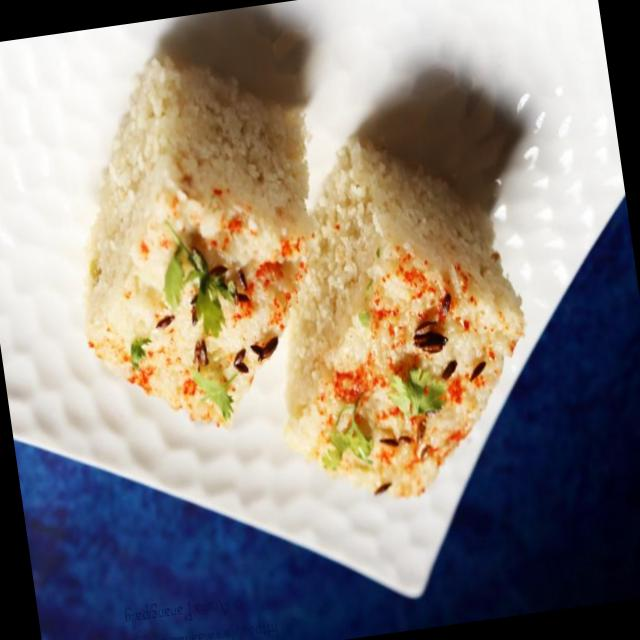dhokla: (46, 15, 538, 546)
